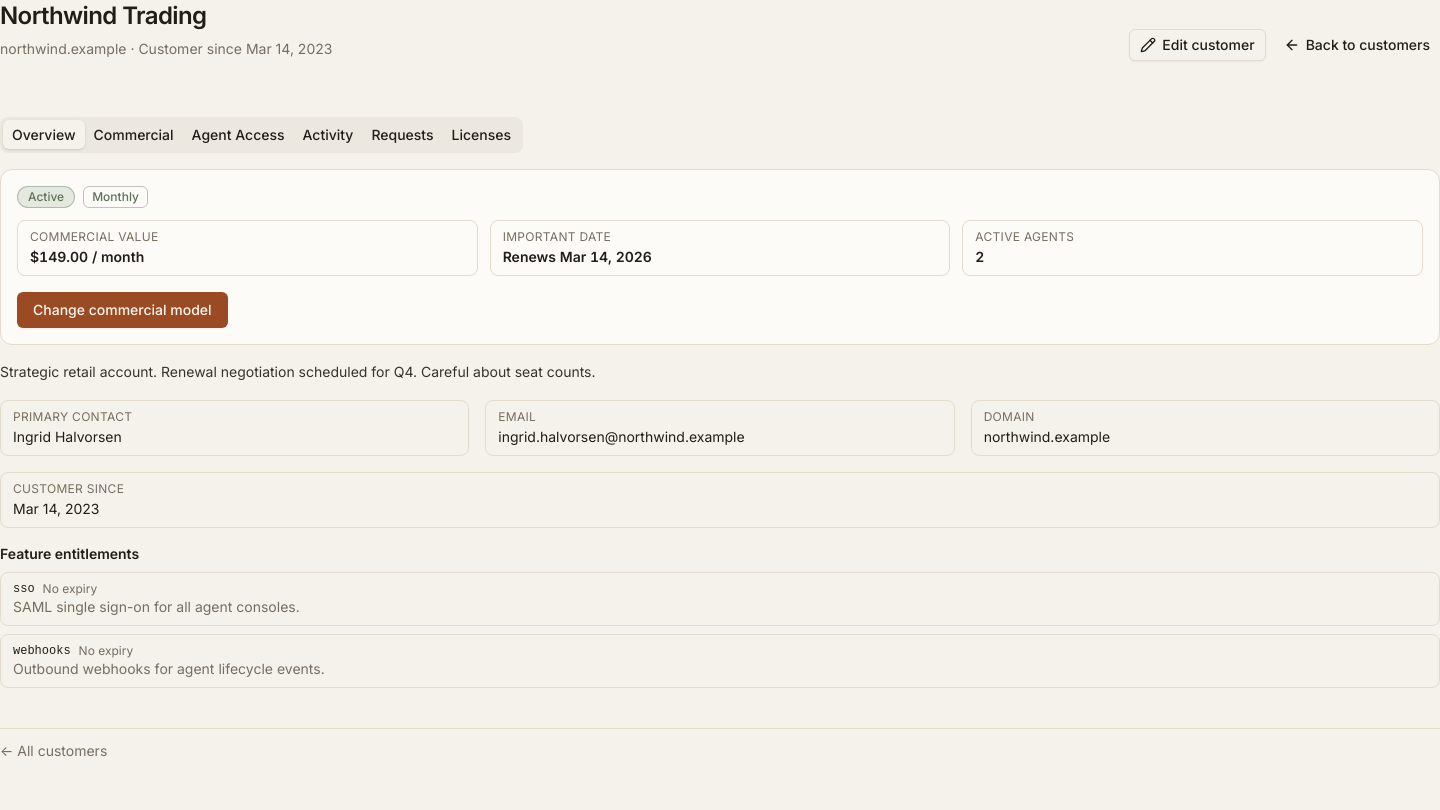
CustomerProfilePage › discloses that the current arrangement will move to history
This screenshot has width=1440, height=810.
Click the button with test id "overview-commercial-action" at (122, 310), box left=17, top=292, right=228, bottom=328
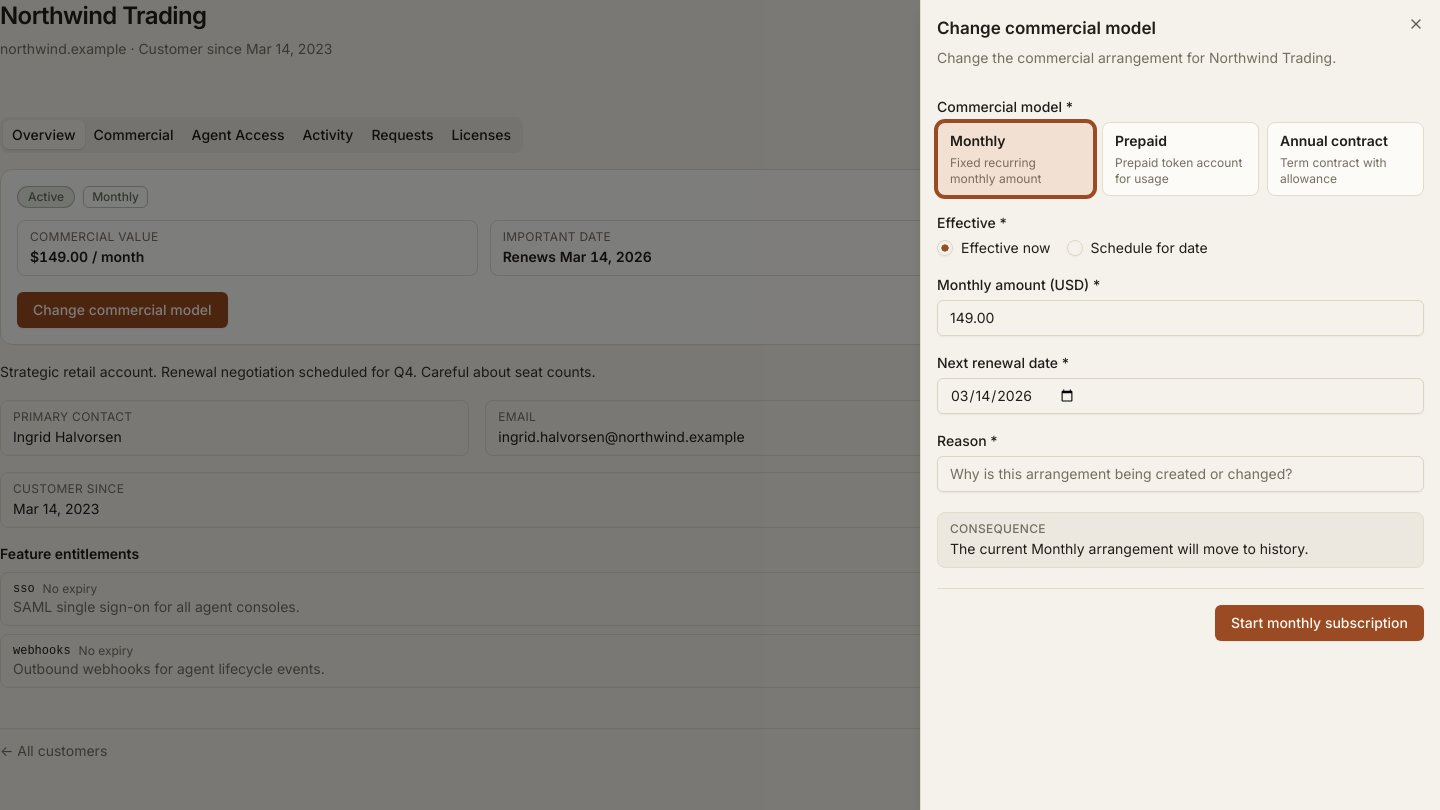
Now the text "The current Monthly arrangement will move to history." is shown, box left=950, top=540, right=1308, bottom=556
